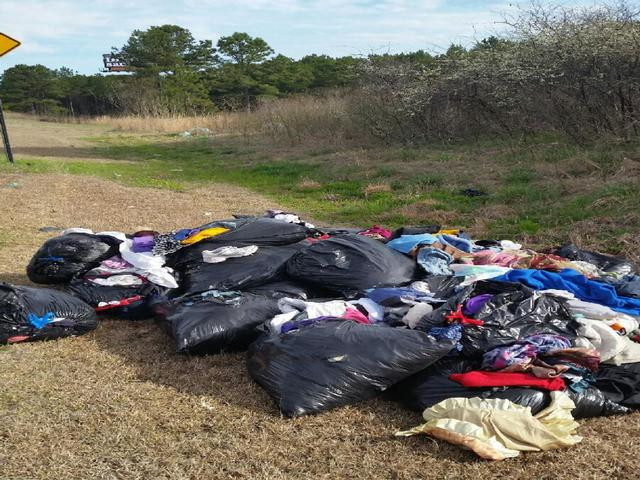garbage: (345, 230, 607, 397), (59, 230, 411, 323)
